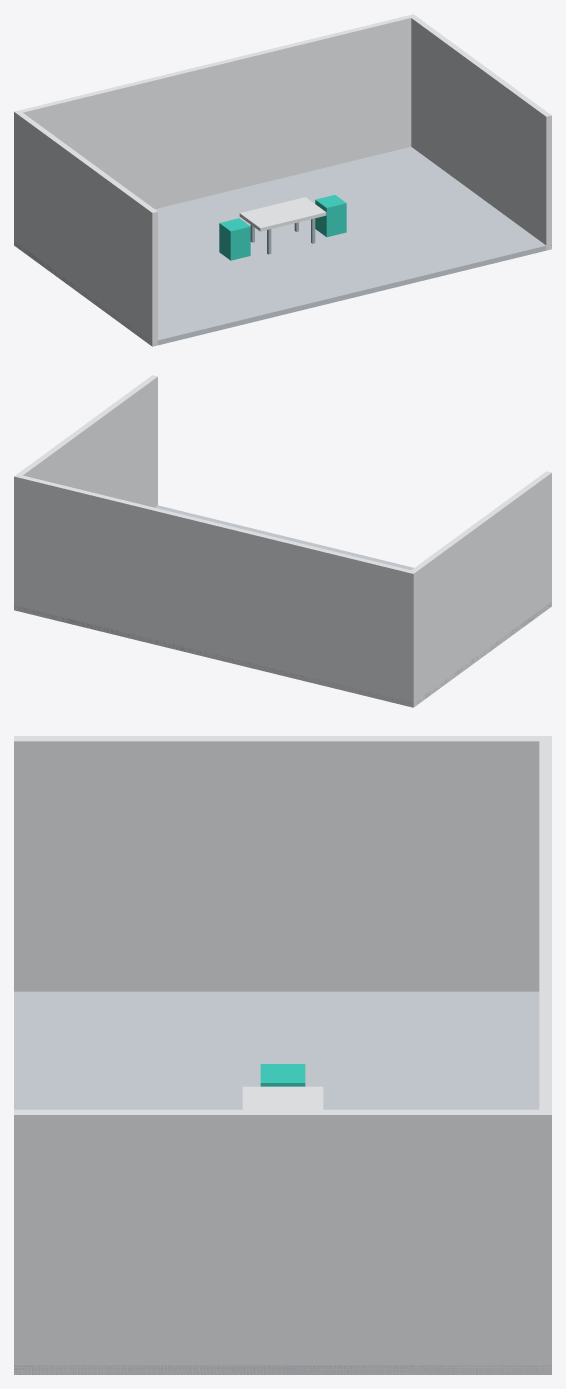
3 renders of one model, top to bottom at view 1: azimuth 30°, elevation 25°; view 2: azimuth 150°, elevation 25°; view 3: azimuth 270°, elevation 25°, orthographic. The views are drawn at different scales.
Parts seen in each view (by area): view 1: Exhibition Booth Concept; view 2: Exhibition Booth Concept; view 3: Exhibition Booth Concept.
Boxes of the visible parts, bbox=[...] form: Exhibition Booth Concept: bbox=[14, 14, 551, 346]; Exhibition Booth Concept: bbox=[14, 375, 551, 707]; Exhibition Booth Concept: bbox=[14, 736, 551, 1374].
Size of the model in its own units: 10 by 3.2 by 6.
